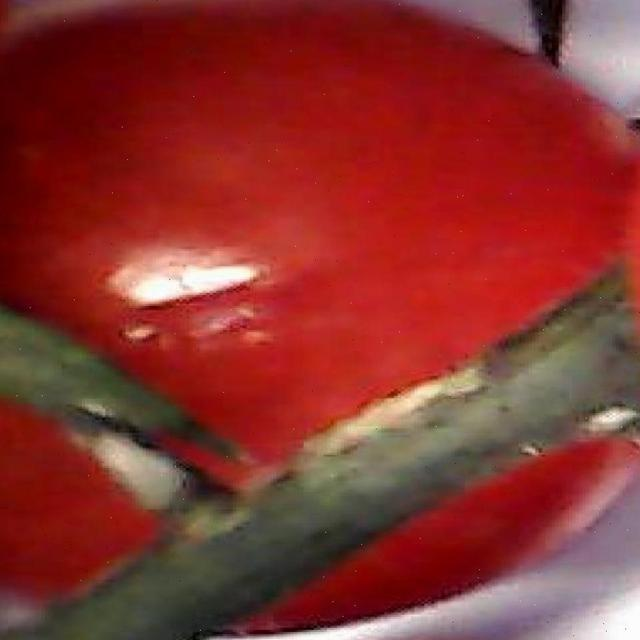Healthy Fruit: (0, 0, 407, 395)
